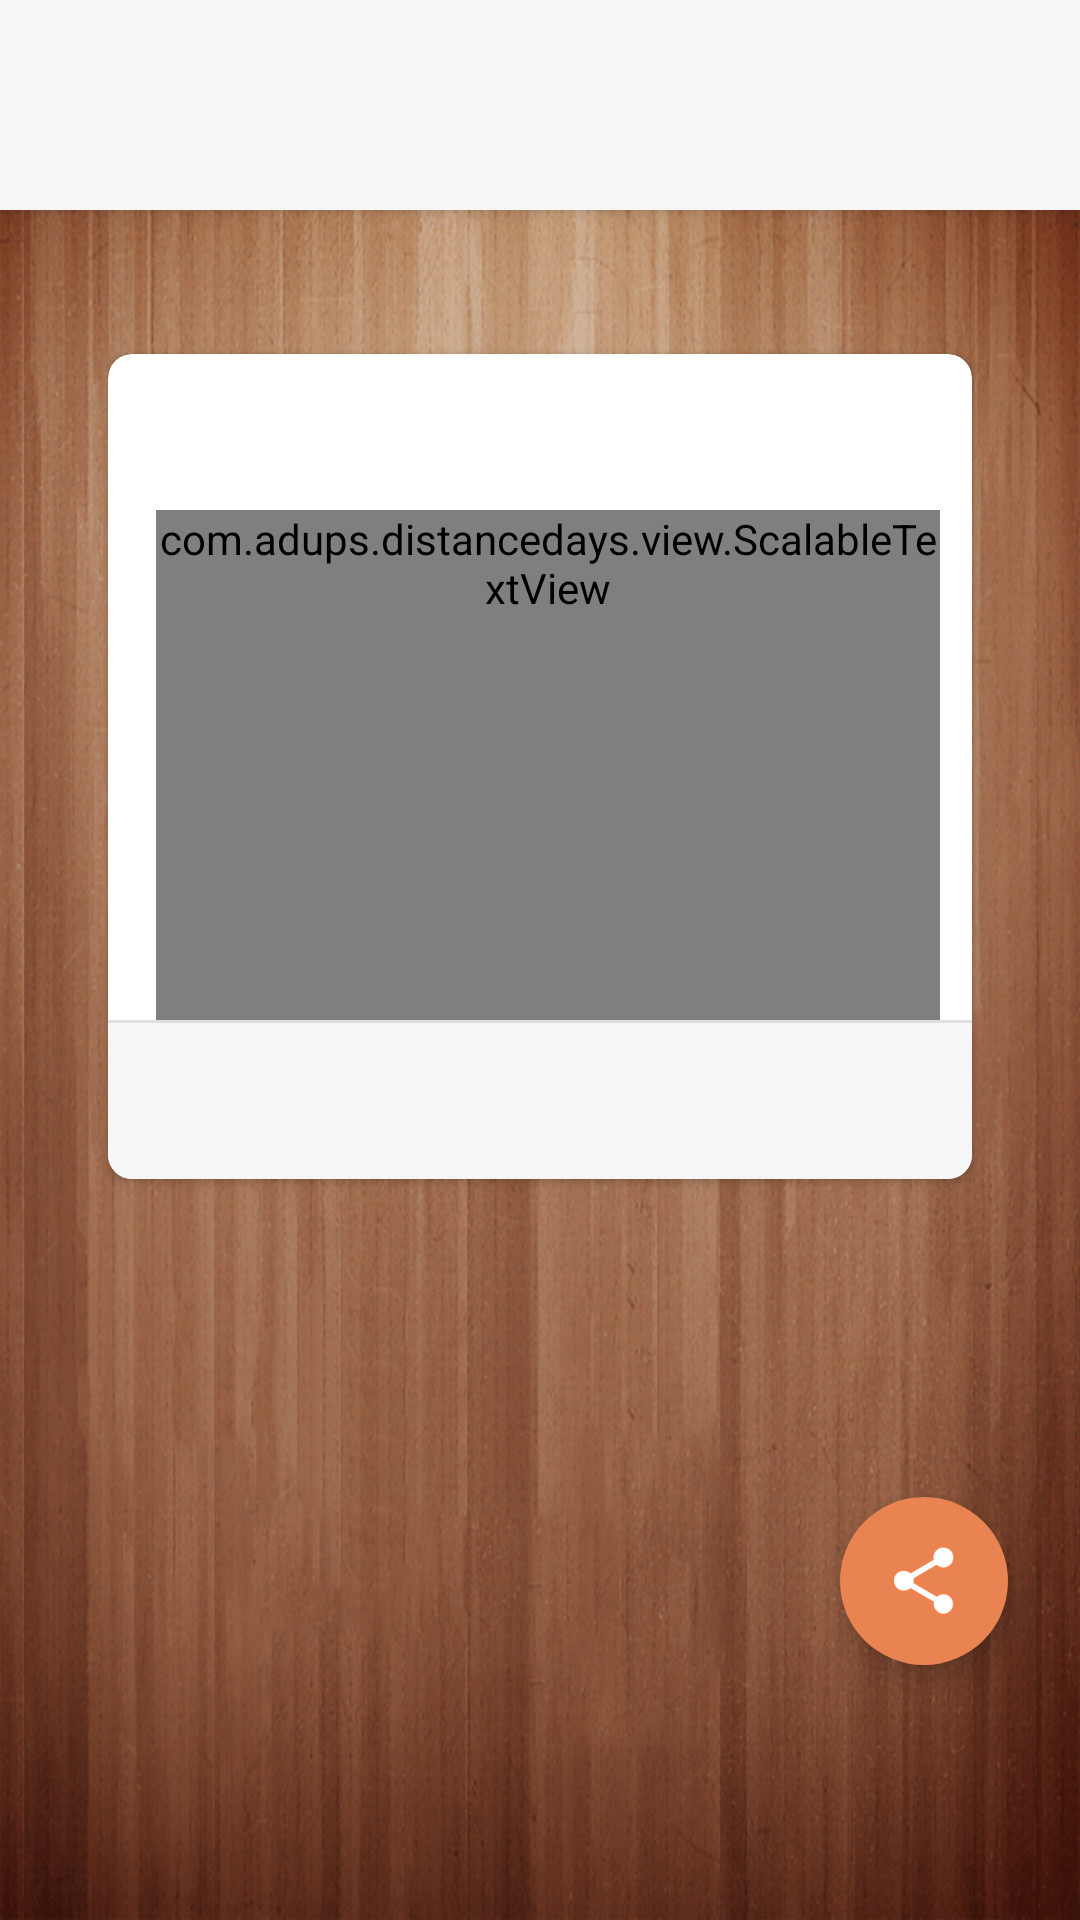

Named icons in this screenshot (1080x1920) and their centers, (x=x, y=y):
share: (x=924, y=1581)
